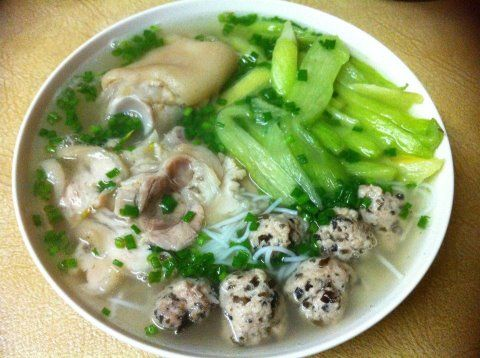chamoc: (286, 256, 357, 326), (218, 270, 287, 341), (359, 182, 420, 251), (151, 272, 211, 331), (319, 210, 374, 260), (246, 212, 308, 254)
pork: (97, 34, 238, 146), (108, 149, 223, 248), (45, 140, 130, 219), (57, 221, 128, 300)
vegetable: (251, 17, 352, 115), (248, 120, 346, 205)
